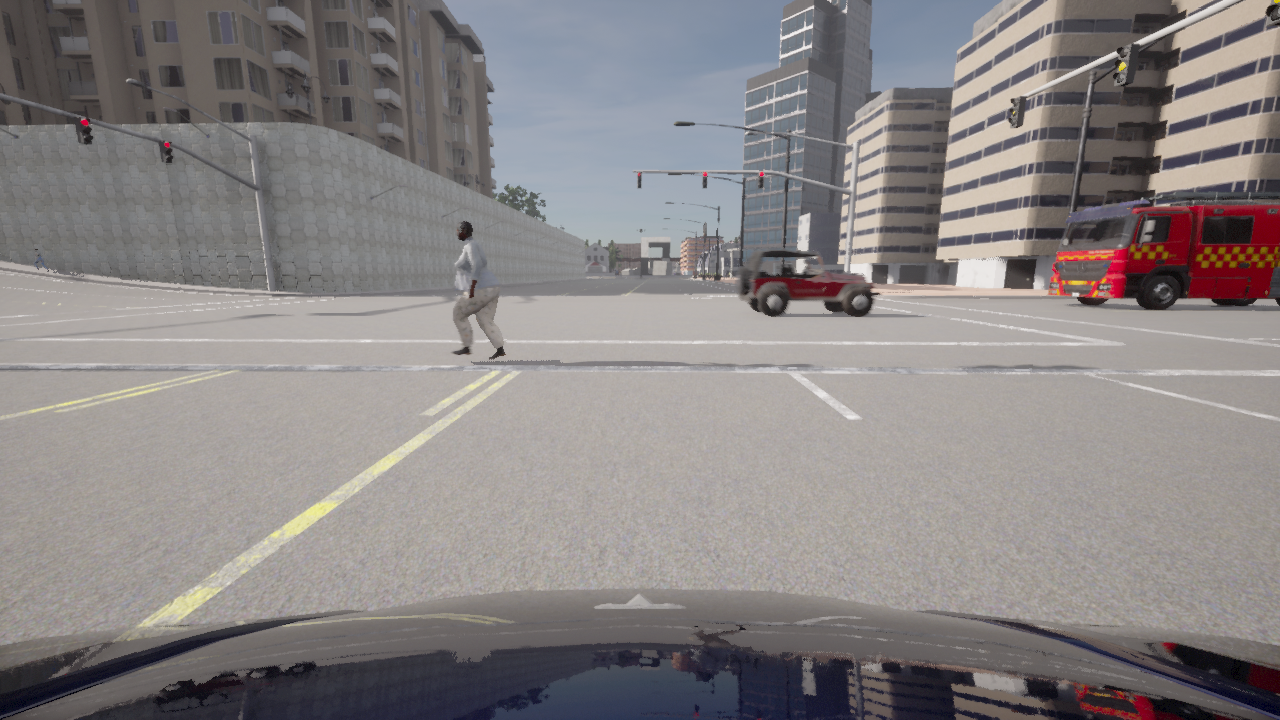cyclist: (0, 588, 1279, 719), (1048, 192, 1279, 309), (736, 249, 881, 317), (674, 272, 675, 274)
pedestrian: (451, 220, 506, 359), (33, 247, 49, 271)
